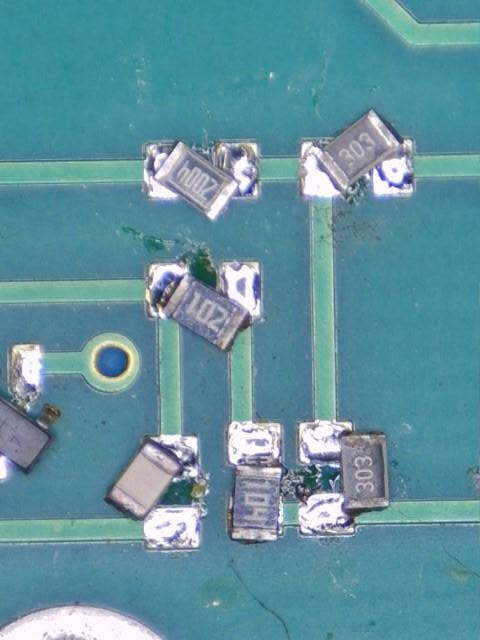pcb_defect: (105, 434, 202, 550), (147, 260, 262, 354), (298, 420, 390, 535), (301, 107, 414, 197), (145, 140, 260, 222), (0, 343, 61, 479), (228, 422, 283, 542)
